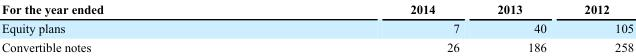table: (0, 1, 633, 53)
table column: (0, 1, 256, 53), (256, 1, 477, 53), (477, 1, 564, 53), (564, 1, 633, 53)
table column header: (0, 1, 633, 17)
table row: (0, 17, 633, 36), (0, 36, 633, 53), (0, 1, 633, 17)
